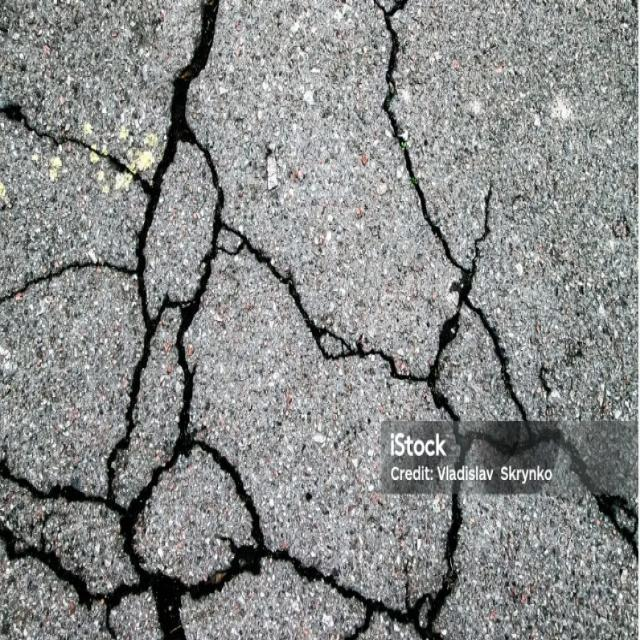network cracks: (0, 0, 639, 639)
